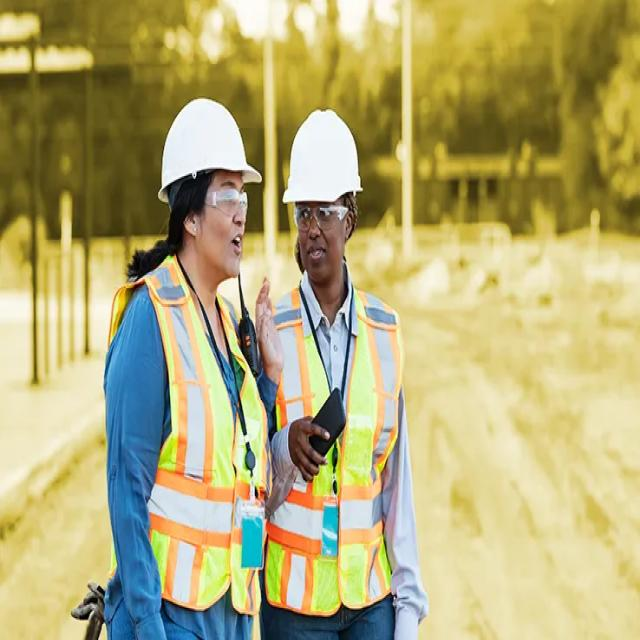Hard Hat: (154, 92, 267, 203), (281, 100, 365, 204)
Reflective Vest: (103, 245, 269, 617), (264, 276, 404, 609)
Safety Glasses: (170, 187, 252, 214), (291, 199, 354, 225)
